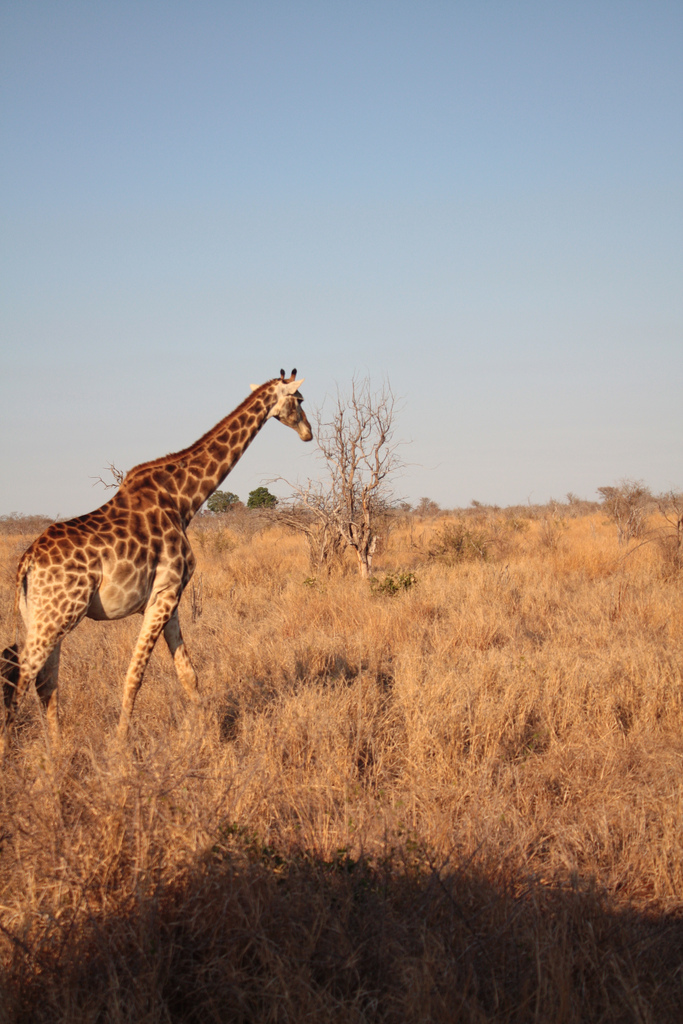giraffe: (32, 341, 338, 705)
